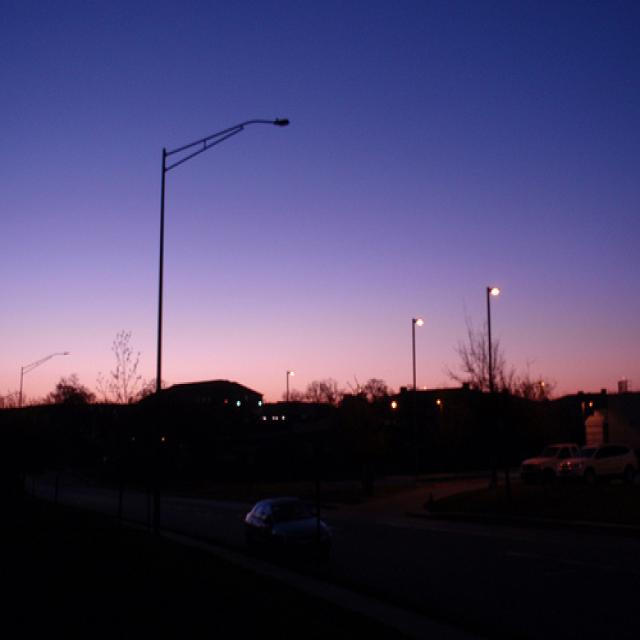Car: (243, 494, 332, 554), (580, 435, 639, 485), (522, 447, 587, 478)
